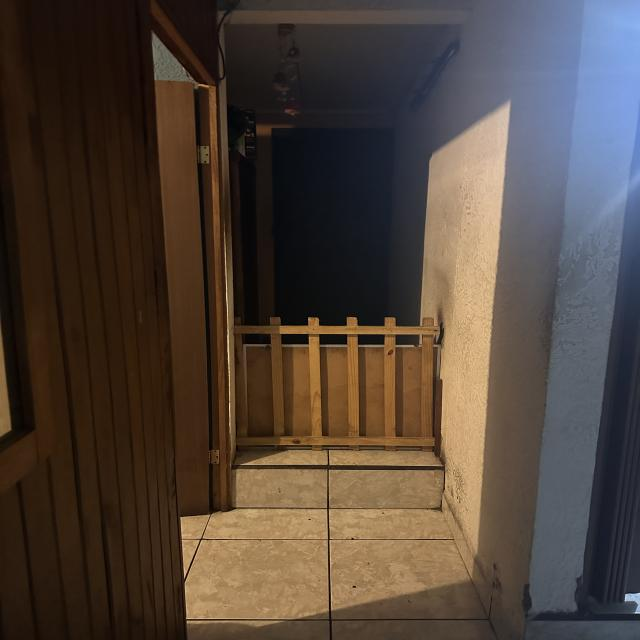OpenDoor: (132, 1, 225, 602)
